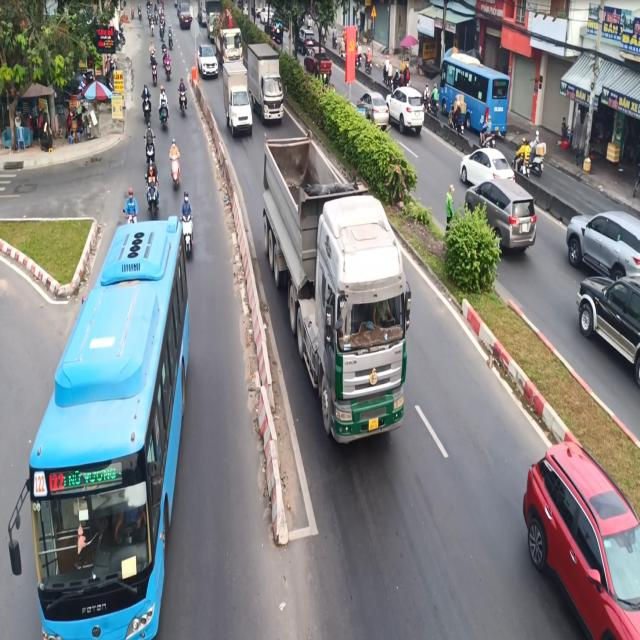bus: (9, 217, 193, 640)
car: (519, 431, 640, 640), (198, 38, 220, 78)
motor: (179, 189, 196, 264), (140, 80, 158, 122), (158, 87, 173, 130), (170, 134, 182, 186), (176, 77, 189, 117)
truck: (258, 130, 413, 458), (248, 39, 286, 125), (220, 59, 252, 136)
